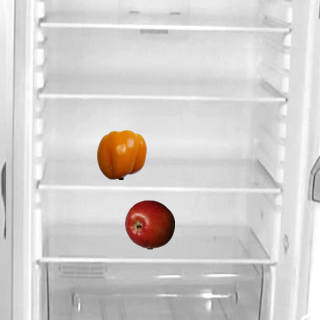Apple Braeburn: (124, 199, 174, 249)
Pepper Yellow: (96, 129, 146, 179)
